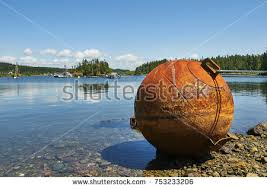buoy: (134, 61, 235, 155)
